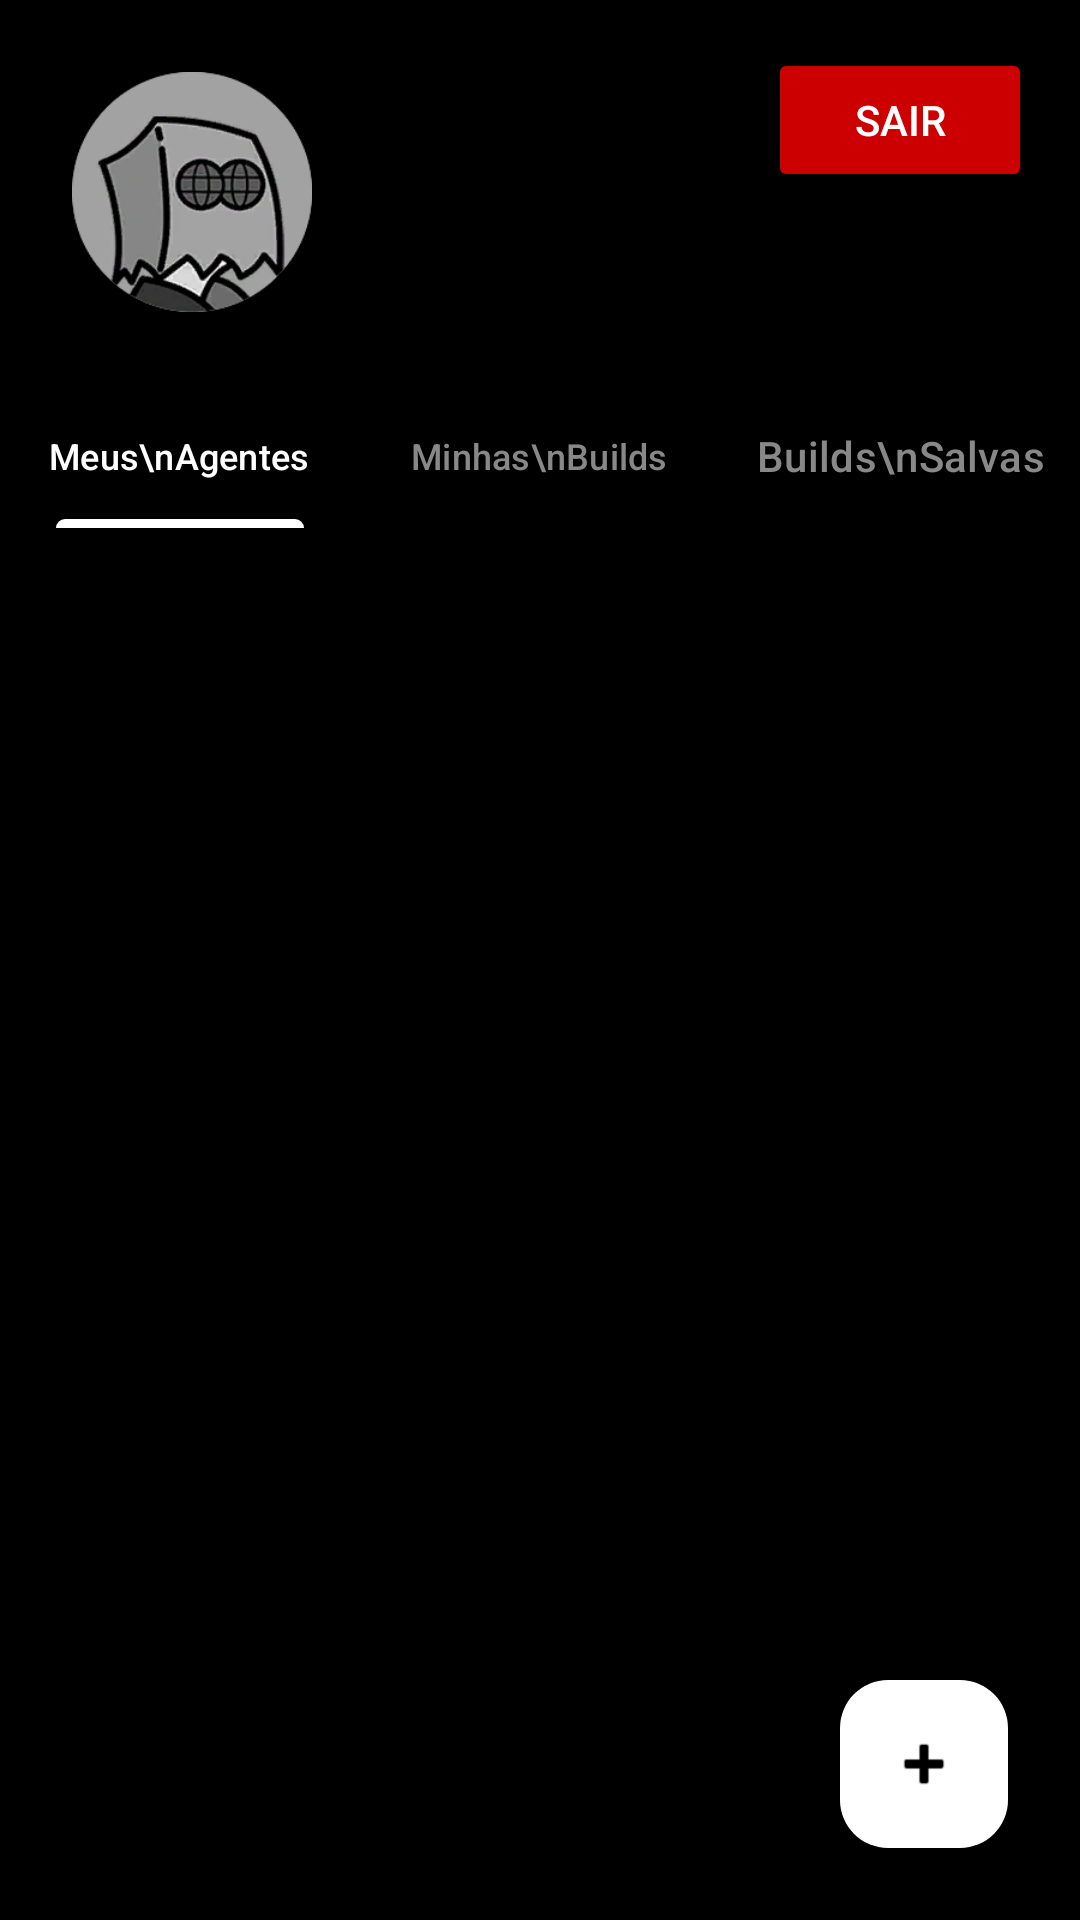

Named icons in this screenshot (1080w x 1920h) and their bounding boxes, (x1, y1, x2, y2):
add: (840, 1680, 1008, 1848)
foto perfil: (72, 72, 312, 312)
